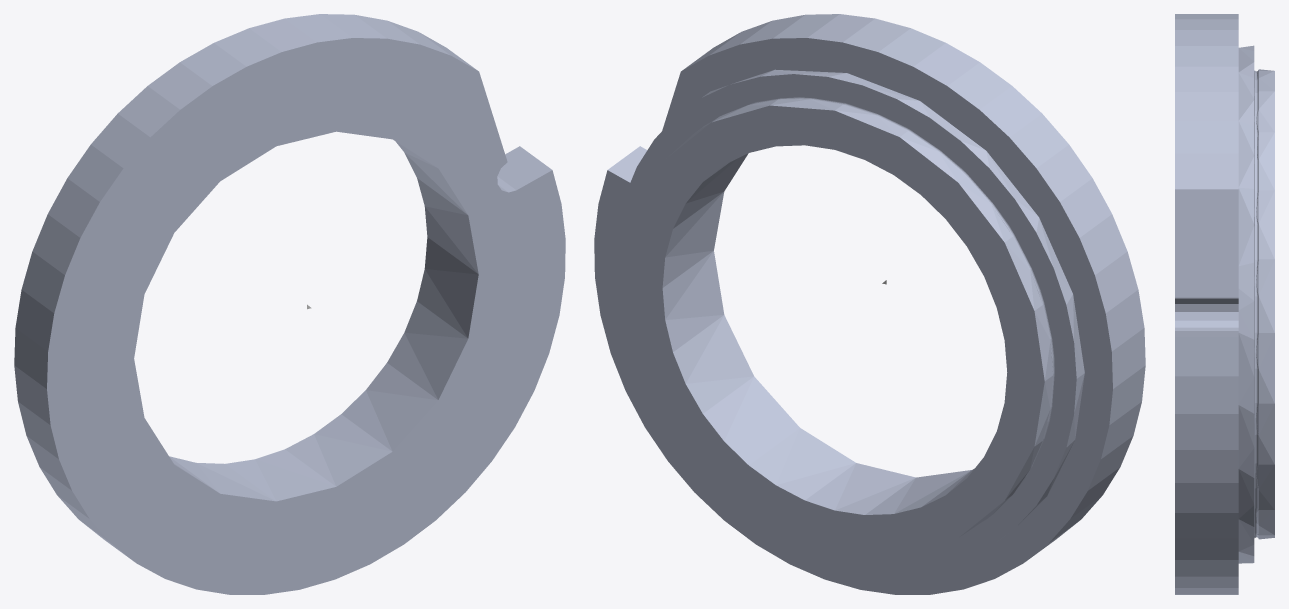
3 views of the same model, side by side, from view 1: azimuth 30°, elevation 25°; view 2: azimuth 150°, elevation 25°; view 3: azimuth 270°, elevation 25° (orthographic). The views are drawn at different scales.
Visible parts, largest first — view 1: node; view 2: node; view 3: node.
Boxes of the visible parts, x1,y1,x2,y2 form: node: (14,14,565,594); node: (594,14,1145,594); node: (1175,14,1274,594).
Size of the model in its own units: 110 by 110 by 19.03.
